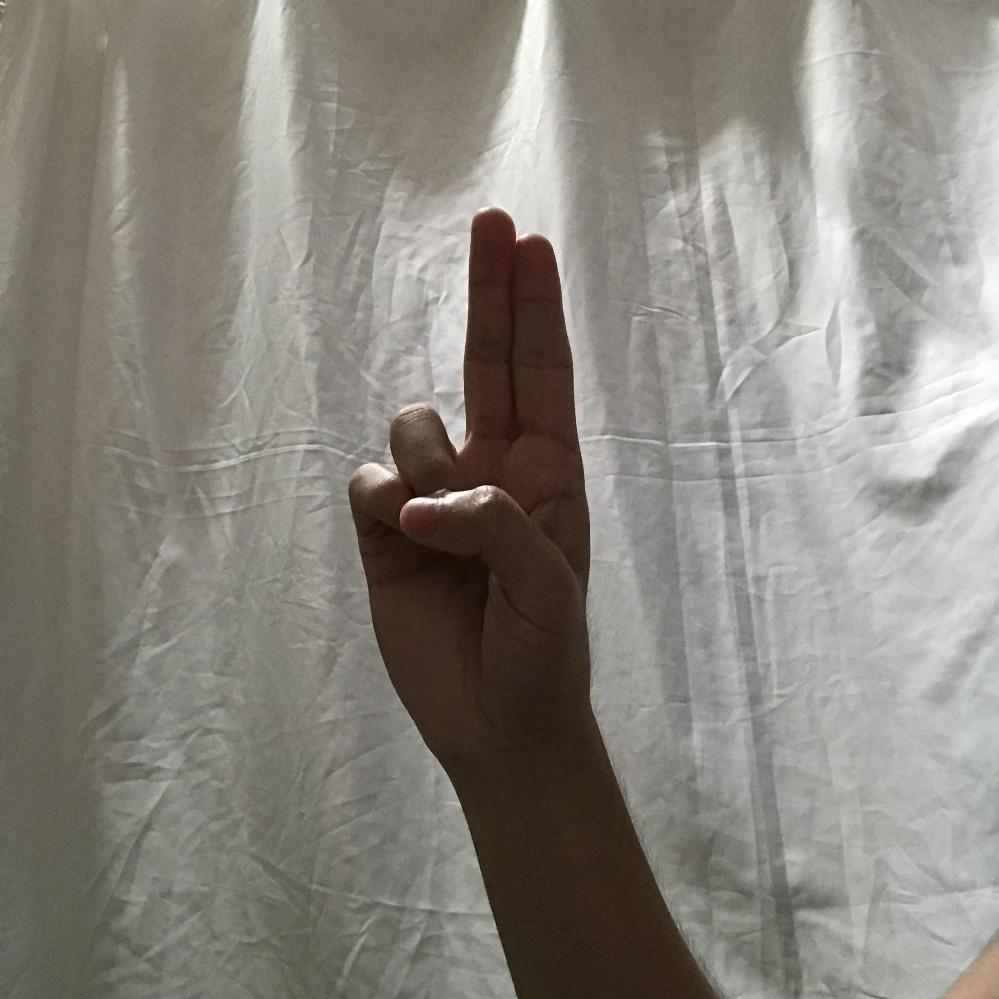u: (353, 202, 595, 739)
